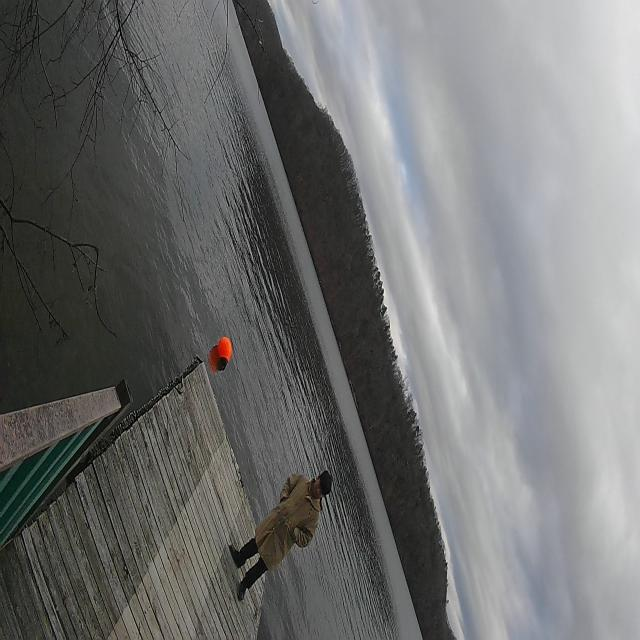Buoy: (216, 333, 233, 369)
